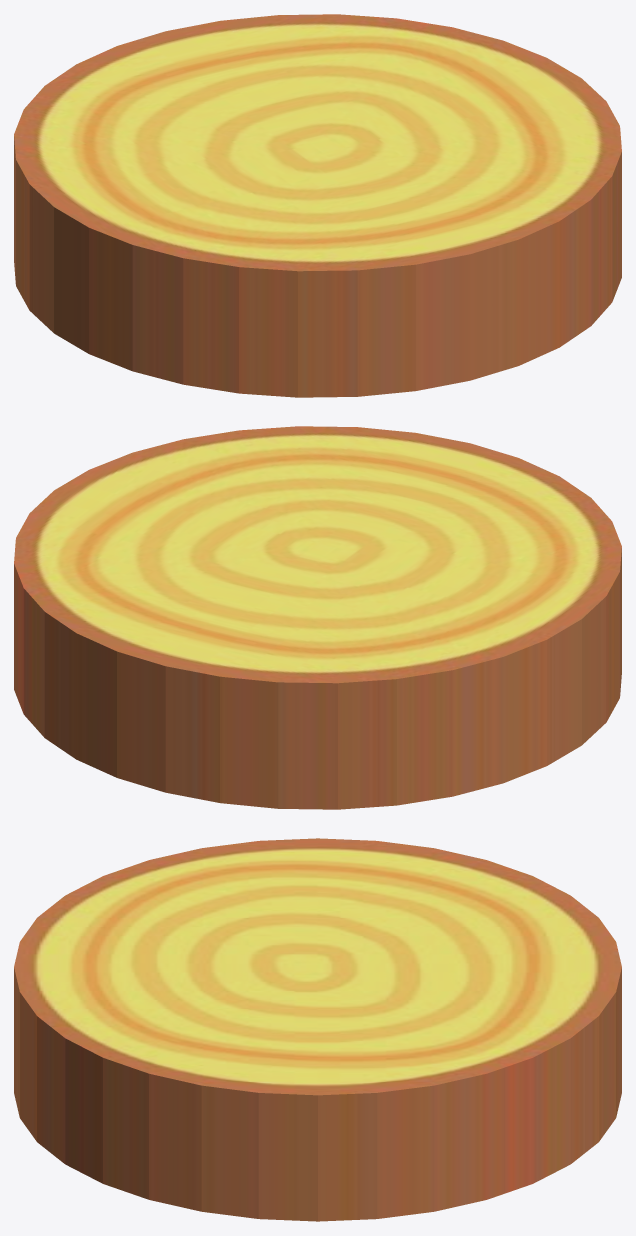
Rendered from Candy.fbx.
The picture shows the model from 3 angles, top to bottom: view 1: azimuth 30°, elevation 25°; view 2: azimuth 150°, elevation 25°; view 3: azimuth 270°, elevation 25°; orthographic projection.
Parts seen in each view (by area): view 1: Cylinder; view 2: Cylinder; view 3: Cylinder.
Part boxes in pixels (x1,y1,x2,y2): Cylinder: (14,14,621,397); Cylinder: (14,426,621,809); Cylinder: (14,838,621,1221).
Bounding box in the file's own units: 200 × 45.81 × 200.
